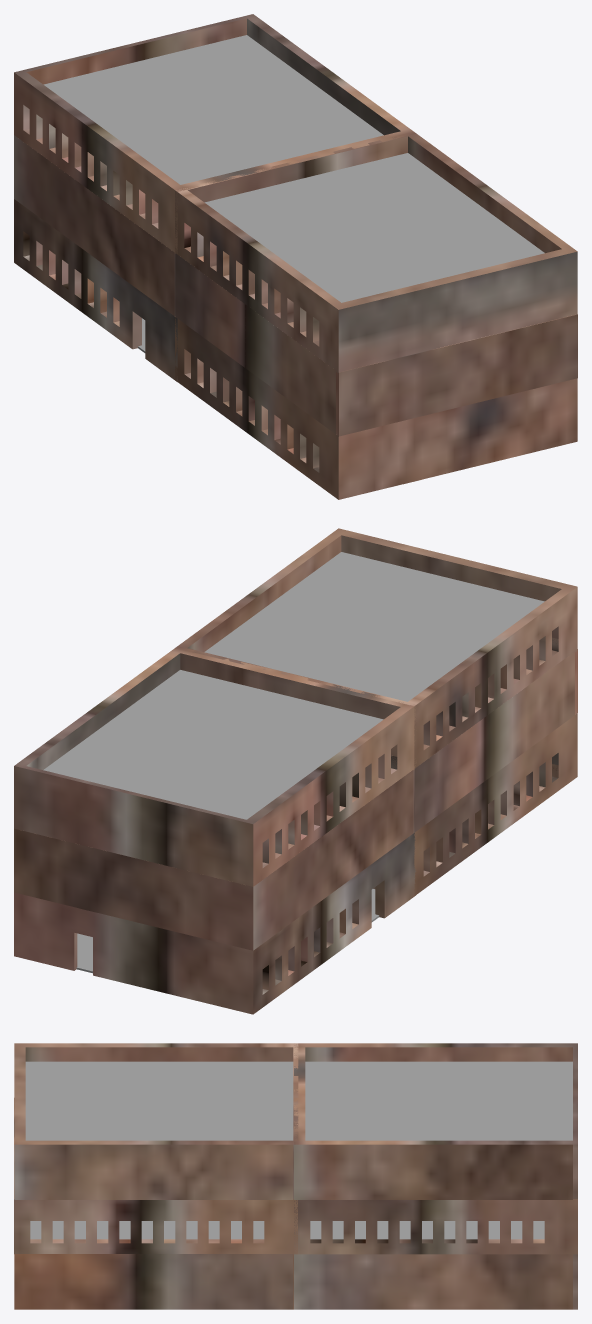
The model's file is flat3.fbx.
The picture shows the model from 3 angles, top to bottom: view 1: azimuth 30°, elevation 25°; view 2: azimuth 150°, elevation 25°; view 3: azimuth 270°, elevation 25°; orthographic projection. The views are drawn at different scales.
Parts seen in each view (by area): view 1: polySurface21; view 2: polySurface21; view 3: polySurface21.
Boxes of the visible parts, x1=… form: polySurface21: x1=14, y1=14, x2=577, y2=499; polySurface21: x1=14, y1=528, x2=577, y2=1014; polySurface21: x1=14, y1=1043, x2=577, y2=1309.
Bounding box in the file's own units: 47.34 × 36 × 111.
